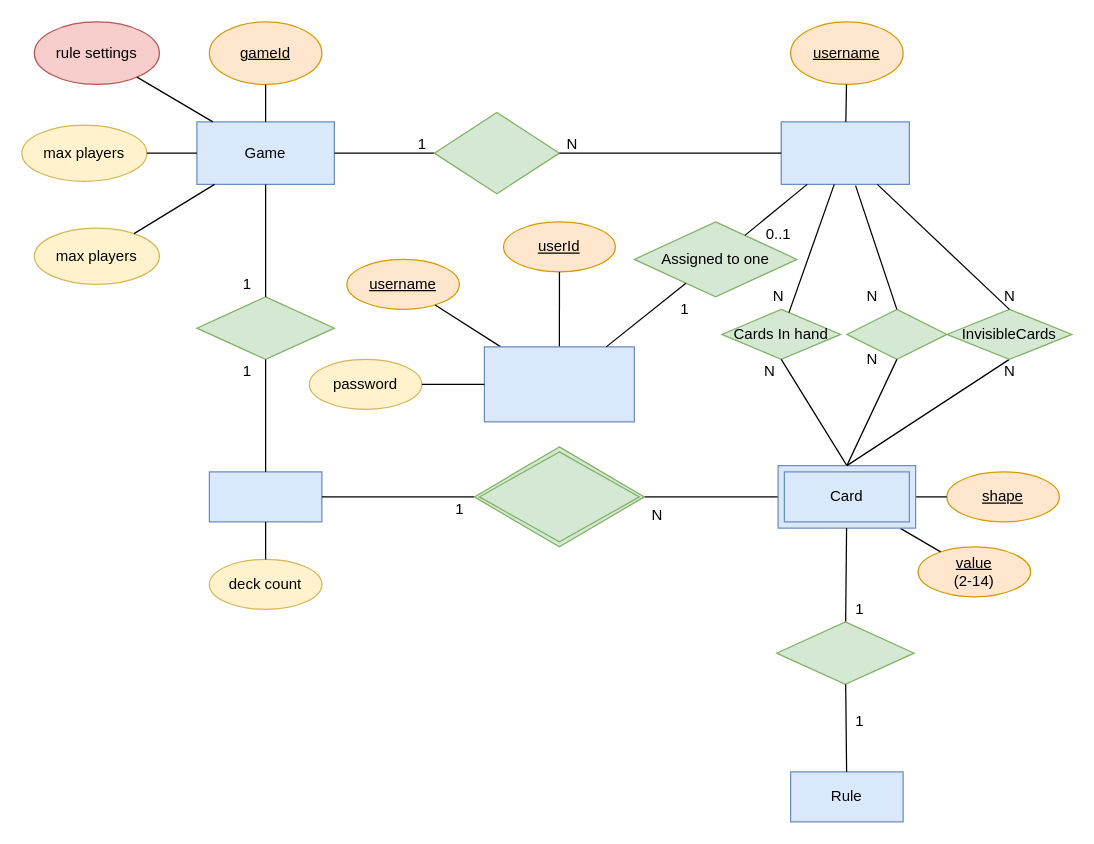
Image size: 1094x844. Some labels were removed from this diagram. The shapes that lost their labels are listed below. From the top down, each one's centre as x and y in pixels, then its label:
the point at 496,152: Has them
the point at 844,152: Player
the point at 265,327: Has a deck
the point at 896,333: VisibleCards
the point at 558,384: User
the point at 265,496: DrawDeck
the point at 558,496: Contains them
the point at 844,652: Has a rule
